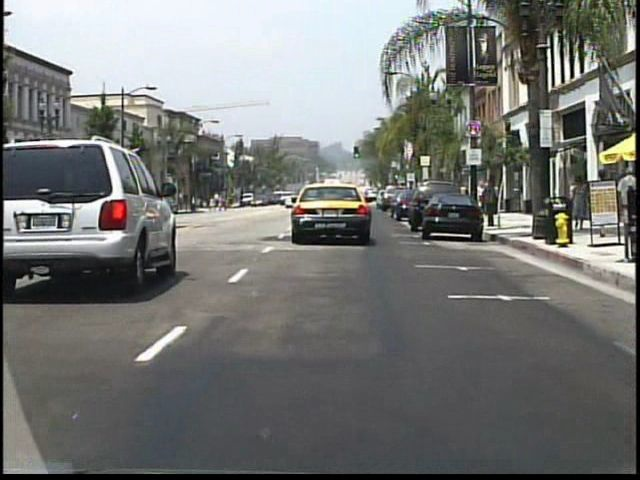person: (599, 164, 634, 221), (592, 169, 613, 239), (570, 177, 588, 235), (477, 181, 487, 215), (238, 194, 245, 210)
